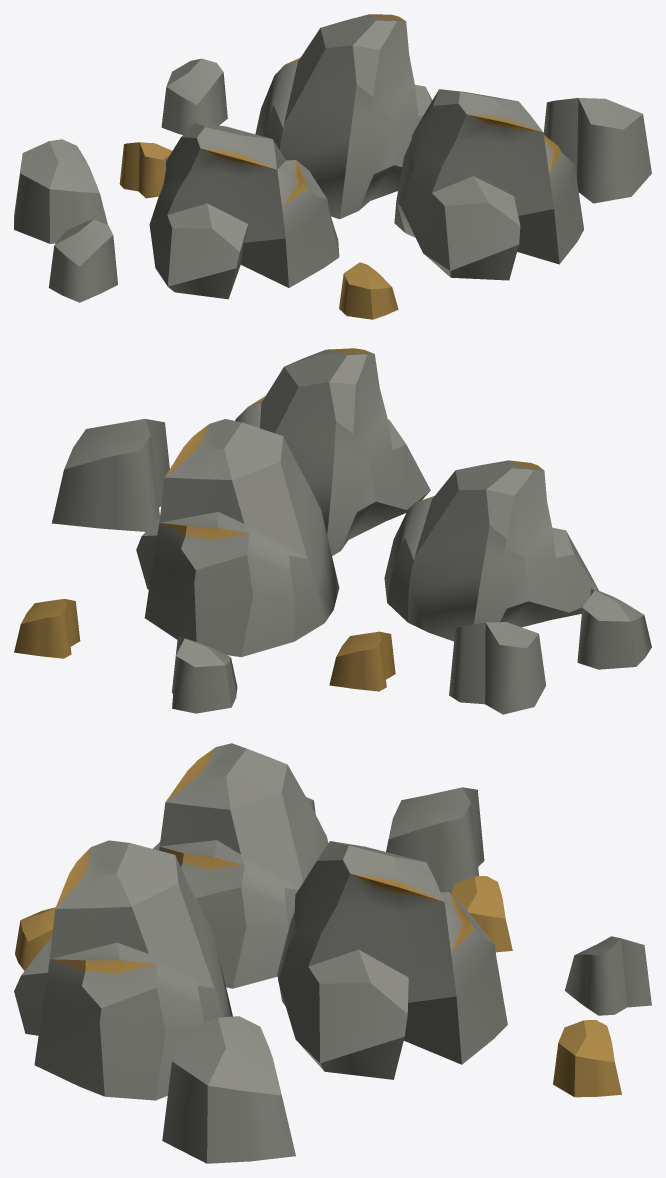
Rendered from quaternius-real-time-strategy-resource-gold-3.glb.
The picture shows the model from 3 angles, top to bottom: view 1: azimuth 30°, elevation 25°; view 2: azimuth 150°, elevation 25°; view 3: azimuth 270°, elevation 25°; orthographic projection. The views are drawn at different scales.
Visible parts, largest first — view 1: Resource_Gold_3; view 2: Resource_Gold_3; view 3: Resource_Gold_3.
Part boxes in pixels (x1,y1,x2,y2): Resource_Gold_3: [14, 14, 651, 319]; Resource_Gold_3: [14, 348, 651, 714]; Resource_Gold_3: [14, 743, 651, 1163].
Bounding box in the file's own units: 0.5907 × 0.1634 × 0.4837.
